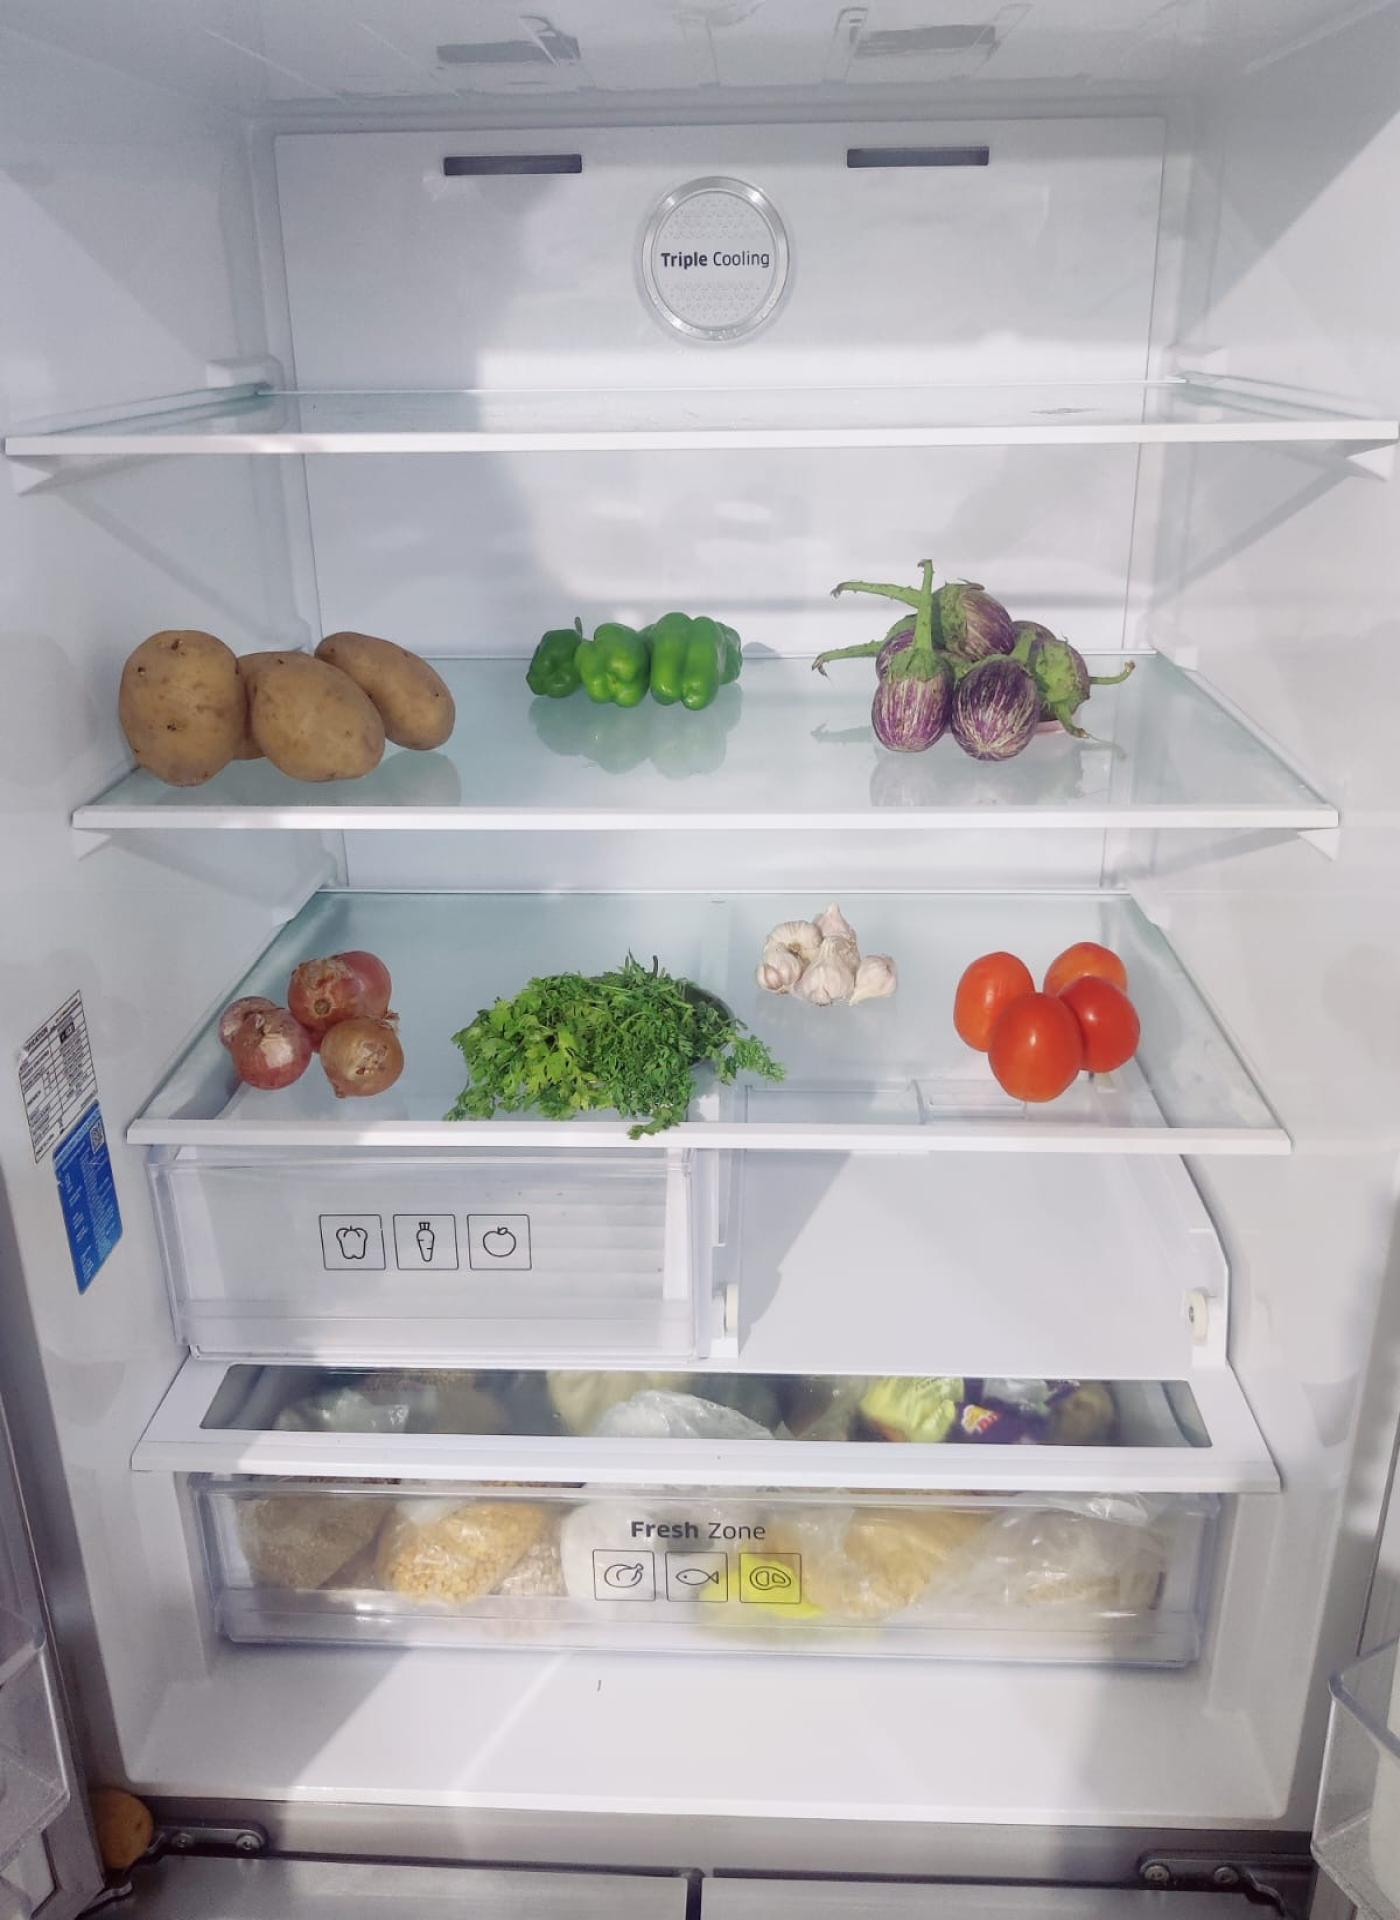brinjal: (869, 580, 1084, 759)
capsicum: (529, 607, 751, 711)
coriander: (455, 963, 768, 1124)
garlic: (759, 911, 899, 1015)
onion: (224, 950, 409, 1094)
potato: (119, 616, 461, 777)
tomato: (957, 942, 1147, 1103)
